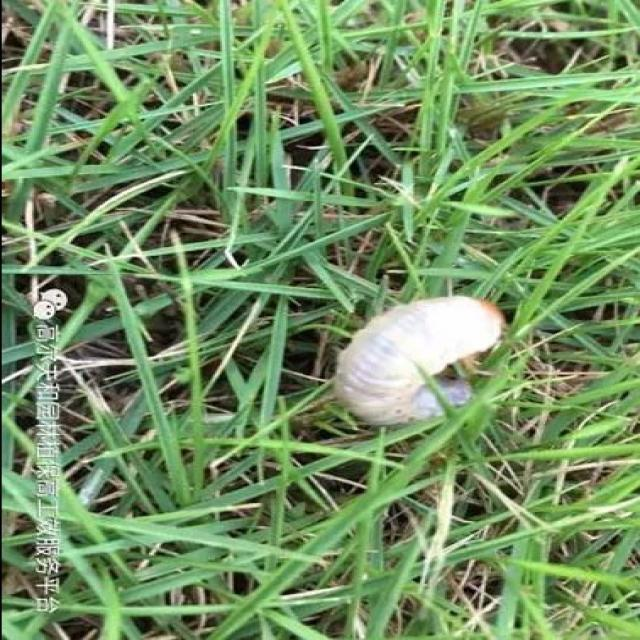grub: (340, 293, 509, 431)
